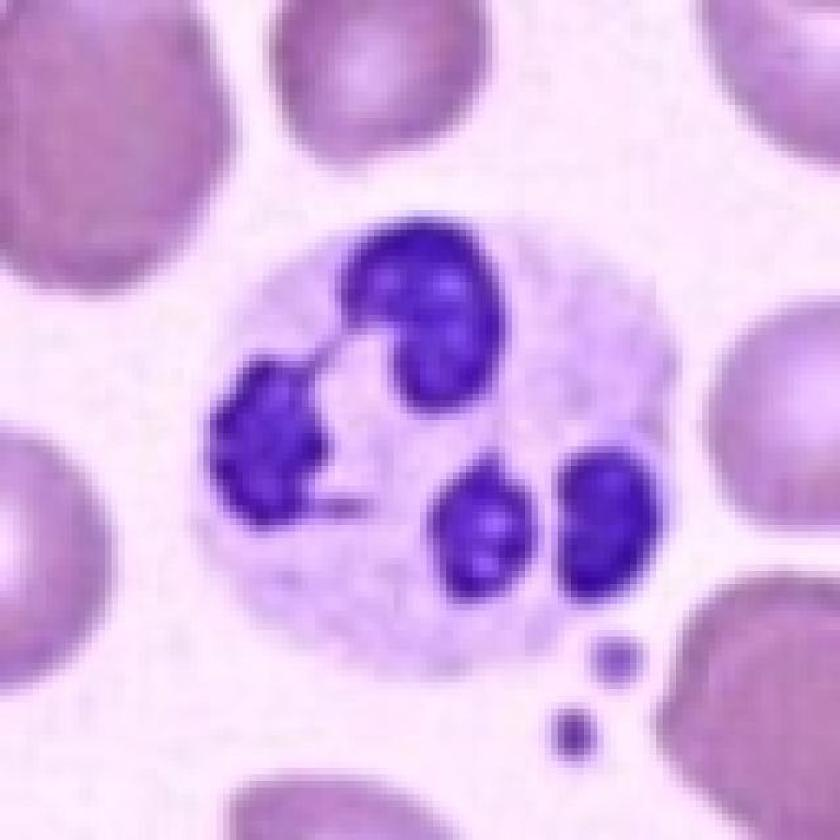neutrophil: (190, 205, 680, 686)
